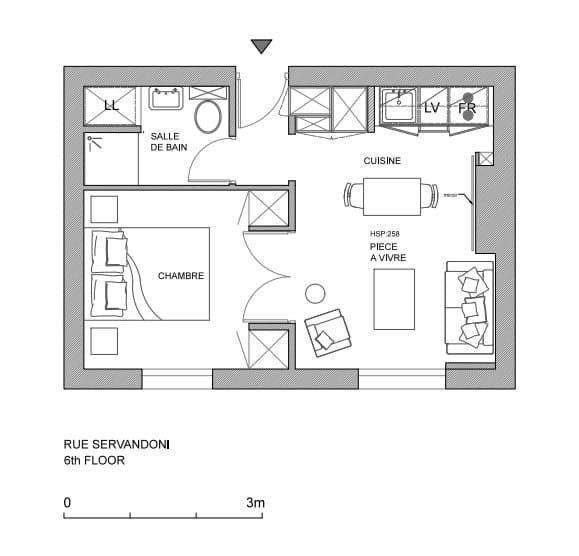door: (244, 232, 304, 330), (236, 63, 286, 123), (188, 137, 239, 189)
room: (289, 76, 515, 387), (78, 189, 295, 390), (66, 60, 291, 184)
wall: (54, 59, 99, 389), (490, 66, 527, 393), (284, 58, 516, 95), (63, 61, 237, 93), (213, 363, 359, 397), (53, 361, 147, 392), (84, 183, 300, 196), (447, 363, 514, 391), (225, 65, 245, 137), (363, 81, 383, 137), (286, 176, 305, 228), (80, 121, 142, 134), (247, 222, 299, 235), (285, 322, 300, 364), (247, 317, 299, 328), (286, 110, 299, 136)
window: (362, 365, 445, 390), (142, 365, 212, 393)
